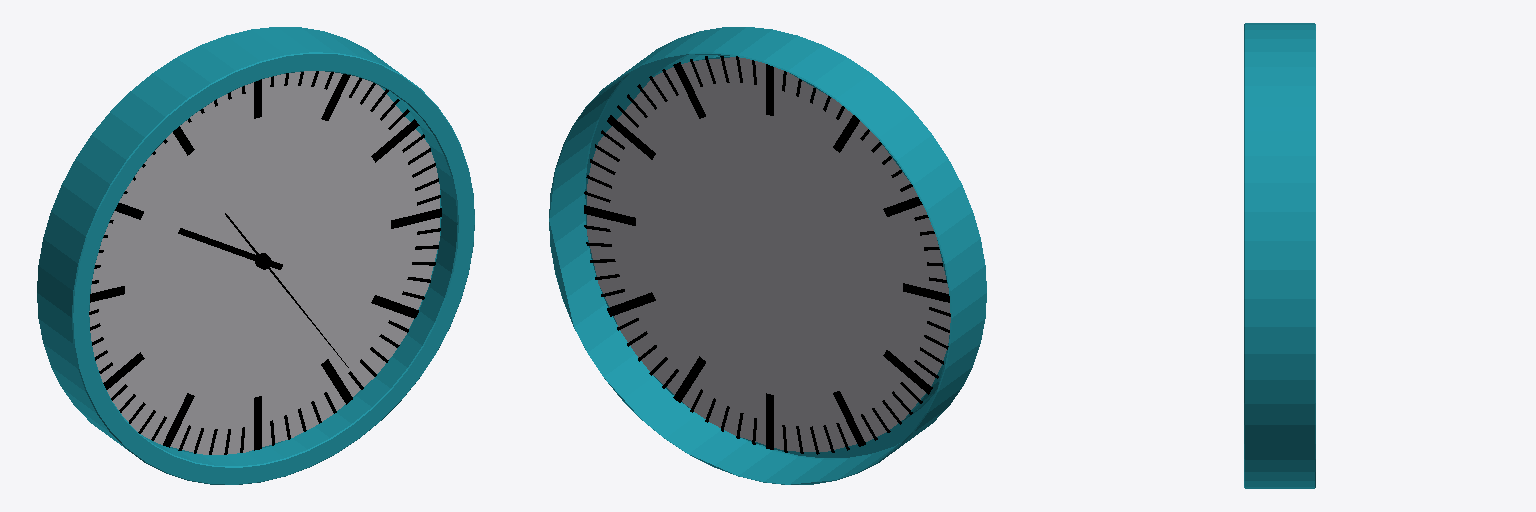
3 views of the same model, side by side, from view 1: azimuth 30°, elevation 25°; view 2: azimuth 150°, elevation 25°; view 3: azimuth 270°, elevation 25° (orthographic).
Parts seen in each view (by area): view 1: pasted__polySurface186 group27; view 2: pasted__polySurface186 group27; view 3: pasted__polySurface186 group27.
Boxes of the visible parts, x1=… form: pasted__polySurface186 group27: x1=37, y1=27, x2=474, y2=484; pasted__polySurface186 group27: x1=549, y1=27, x2=986, y2=484; pasted__polySurface186 group27: x1=1244, y1=23, x2=1315, y2=488.
Size of the model in its own units: 1.4 by 1.39 by 0.2158.
3 materials, 2 textured.